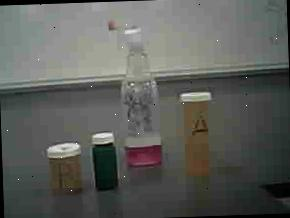Bottle A: (173, 85, 220, 180)
Bottle B: (42, 138, 89, 198)
Bottle C: (83, 127, 121, 192)
hazard: (112, 8, 170, 174)
